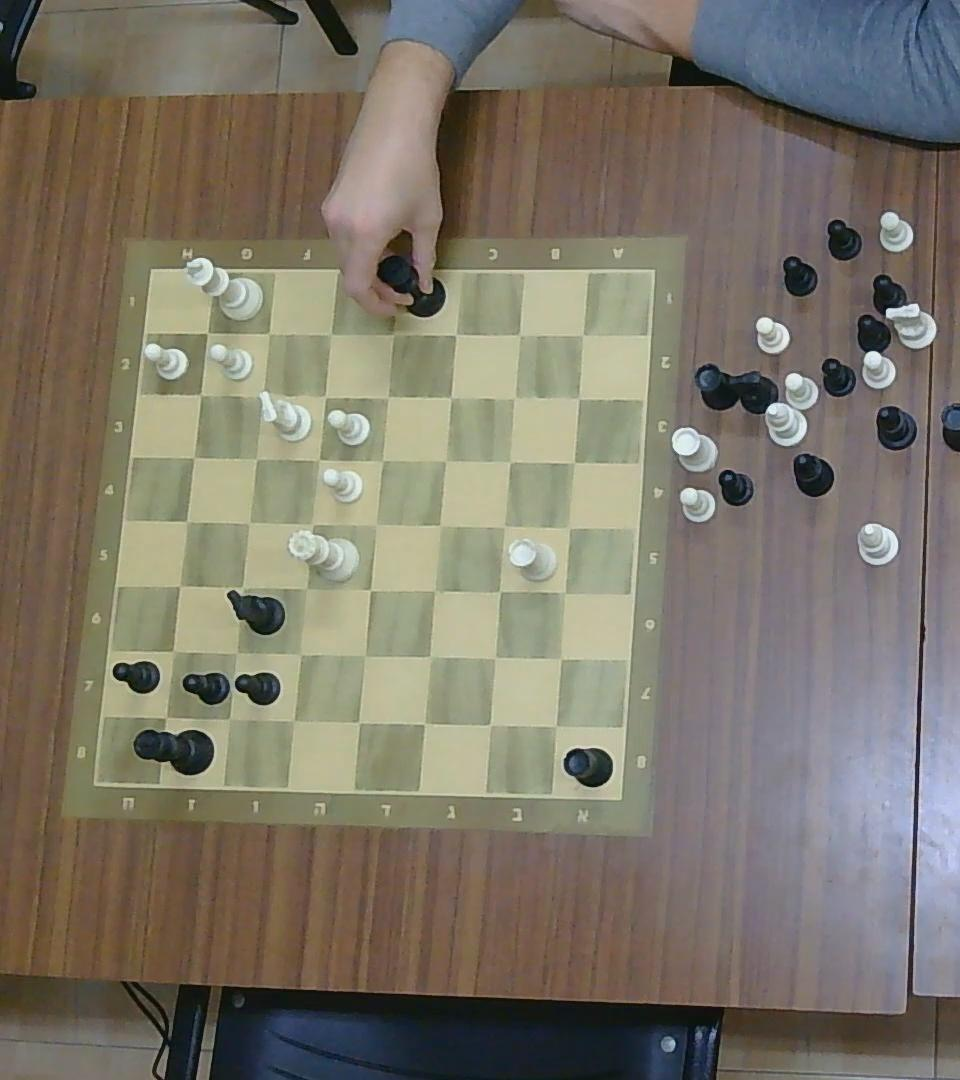xcorner: (279, 706, 307, 734), (410, 710, 438, 737), (476, 710, 504, 737), (215, 705, 241, 732), (417, 642, 443, 669), (153, 703, 179, 730), (543, 712, 569, 738), (352, 641, 377, 668), (358, 575, 383, 602), (167, 572, 192, 598), (287, 639, 311, 666), (346, 709, 371, 734), (486, 579, 511, 604), (481, 645, 506, 670), (228, 574, 253, 599), (381, 321, 406, 346), (174, 508, 198, 534), (491, 513, 515, 539), (421, 577, 445, 603), (223, 640, 247, 665), (294, 576, 318, 601), (162, 638, 185, 664), (557, 514, 581, 538), (552, 580, 576, 604), (236, 510, 259, 535), (427, 512, 450, 537), (300, 512, 323, 537), (318, 321, 341, 346), (364, 512, 387, 536), (370, 448, 393, 472), (438, 384, 461, 408), (188, 381, 211, 405), (549, 646, 573, 669), (250, 381, 273, 405), (306, 447, 329, 470), (182, 445, 204, 469), (433, 448, 455, 472), (196, 320, 218, 344), (376, 384, 398, 408), (258, 320, 280, 344), (245, 447, 267, 470), (498, 449, 520, 472), (444, 322, 466, 345), (563, 449, 585, 472), (509, 324, 530, 344), (504, 386, 524, 406), (572, 324, 592, 344), (315, 386, 334, 406), (570, 388, 589, 407)
